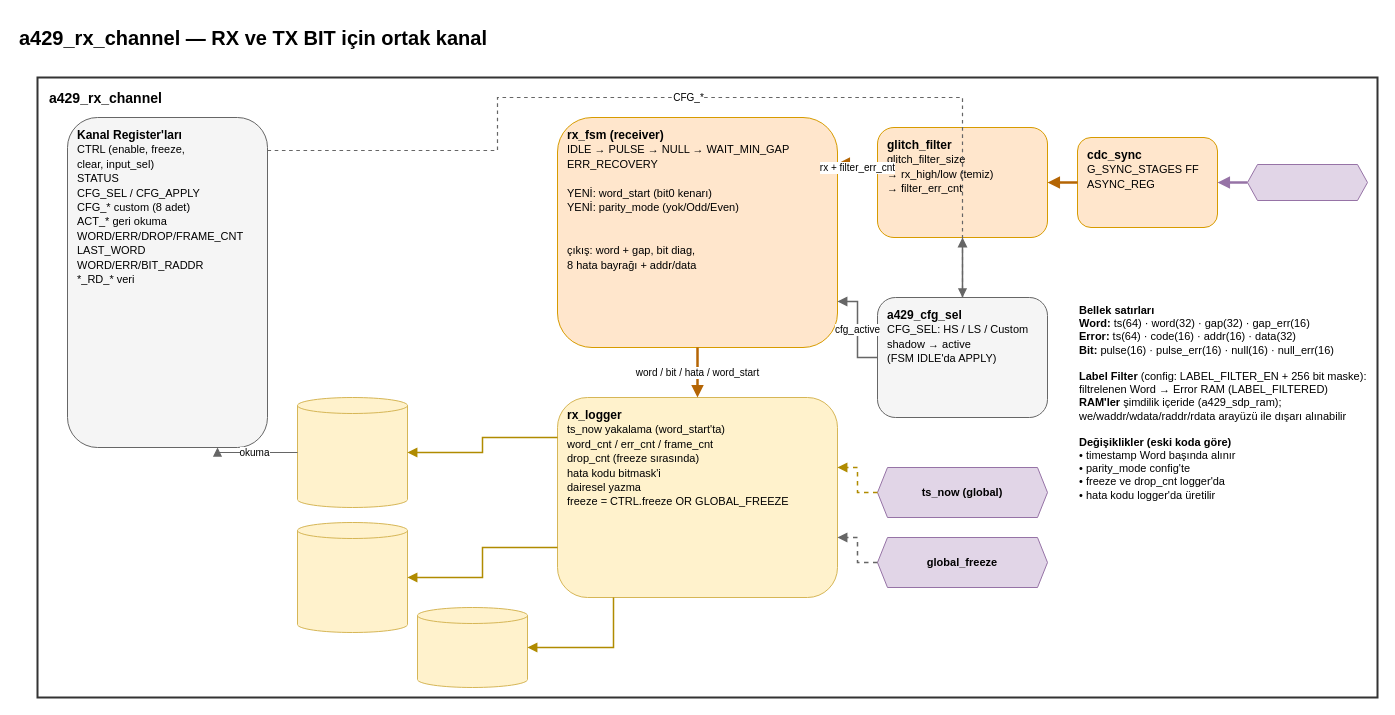
Some shapes in this 1395 by 715 pixel diagram are drawn without their labels. Each missing label, with the centre of its shape:
Bit RAM 8×32 × 64: [472,647]
Error RAM 256 × 128: [352,577]
rx_high/low: [1307,182]
Word RAM 256 × 144: [352,452]
